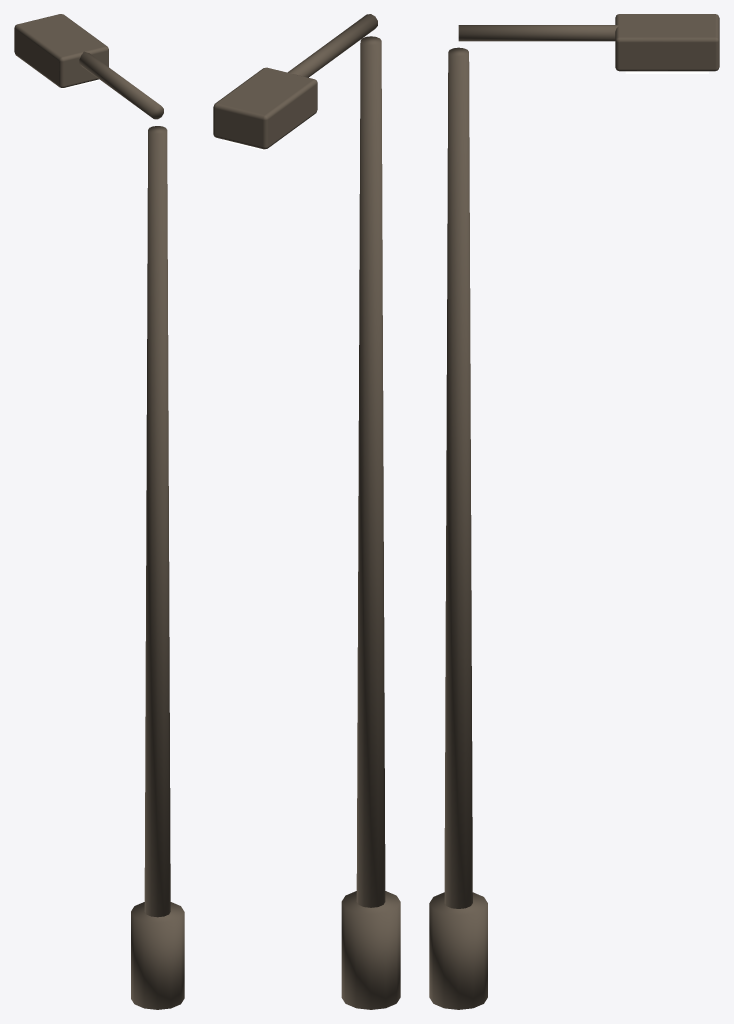
The model's file is lamp_post.glb.
3 views of the same model, side by side, from view 1: azimuth 30°, elevation 25°; view 2: azimuth 150°, elevation 25°; view 3: azimuth 270°, elevation 25° (orthographic). The views are drawn at different scales.
Visible parts, largest first — view 1: post, base, head, arm; view 2: post, base, head, arm; view 3: post, base, head, arm.
Boxes of the visible parts, bbox=[...] form: post: bbox=[144, 126, 170, 917]; base: bbox=[131, 902, 184, 1009]; head: bbox=[14, 14, 108, 87]; arm: bbox=[79, 51, 163, 119]; post: bbox=[356, 36, 385, 907]; base: bbox=[341, 891, 400, 1009]; head: bbox=[213, 67, 317, 149]; arm: bbox=[287, 14, 377, 77]; post: bbox=[444, 47, 472, 908]; base: bbox=[429, 892, 487, 1009]; head: bbox=[615, 14, 719, 71]; arm: bbox=[458, 25, 618, 41].
Bounding box in the file's own units: 0.3 × 5.14 × 1.39.
